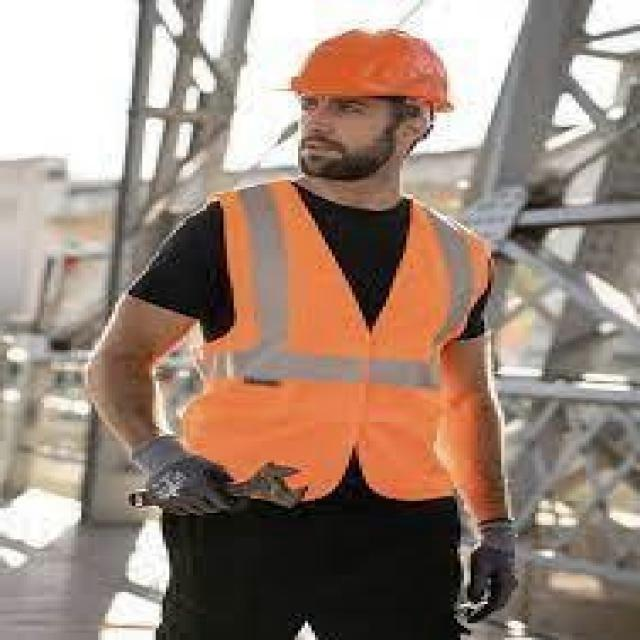safety_helmet: (281, 26, 455, 113)
